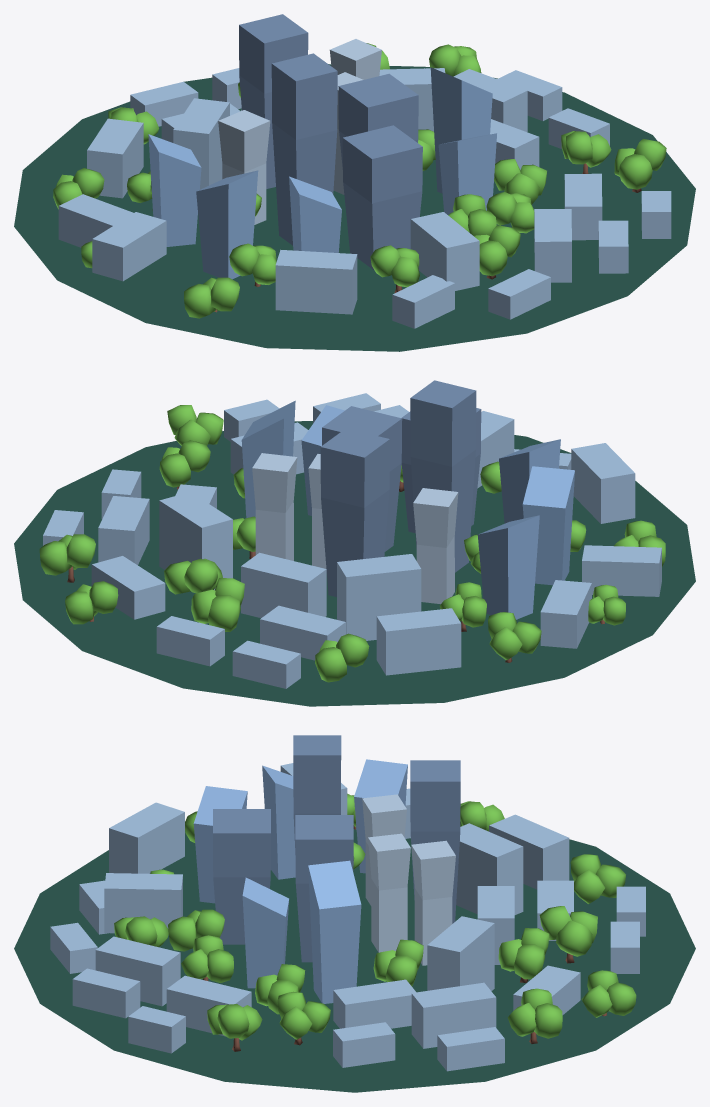
The model's file is city_layout.glb.
The picture shows the model from 3 angles, top to bottom: view 1: azimuth 30°, elevation 25°; view 2: azimuth 150°, elevation 25°; view 3: azimuth 270°, elevation 25°; orthographic projection.
Parts seen in each view (by area): view 1: Ground, Box building (×19), Big building (×4), Angular skyscraper (×5), Leaves 3 (×10), Trapezoidal skyscraper (×3), Leaves 1 (×5), Leaves 2 (×4); view 2: Box building (×19), Ground, Big building (×4), Angular skyscraper (×5), Trapezoidal skyscraper (×3), Leaves 1 (×11), Leaves 3 (×9), Leaves 2 (×3); view 3: Box building (×20), Ground, Big building (×4), Angular skyscraper (×5), Trapezoidal skyscraper (×3), Leaves 1 (×8), Leaves 2 (×6), Leaves 3 (×5).
Part boxes in pixels (bbox=[...]): Ground: bbox=[14, 64, 695, 351]; Box building (×19): bbox=[58, 68, 671, 328]; Big building (×4): bbox=[239, 14, 422, 269]; Angular skyscraper (×5): bbox=[148, 67, 496, 279]; Leaves 3 (×10): bbox=[72, 44, 666, 311]; Trapezoidal skyscraper (×3): bbox=[218, 39, 381, 224]; Leaves 1 (×5): bbox=[127, 154, 652, 318]; Leaves 2 (×4): bbox=[252, 173, 539, 287]; Box building (×19): bbox=[43, 393, 661, 688]; Ground: bbox=[14, 421, 695, 706]; Big building (×4): bbox=[320, 380, 481, 596]; Angular skyscraper (×5): bbox=[241, 400, 574, 619]; Trapezoidal skyscraper (×3): bbox=[252, 453, 458, 604]; Leaves 1 (×11): bbox=[39, 412, 625, 682]; Leaves 3 (×9): bbox=[66, 405, 516, 667]; Leaves 2 (×3): bbox=[174, 419, 522, 660]; Box building (×20): bbox=[50, 802, 645, 1071]; Ground: bbox=[14, 829, 695, 1092]; Big building (×4): bbox=[213, 735, 460, 962]; Angular skyscraper (×5): bbox=[193, 759, 407, 1003]; Trapezoidal skyscraper (×3): bbox=[362, 794, 455, 965]; Leaves 1 (×8): bbox=[168, 864, 636, 1038]; Leaves 2 (×6): bbox=[181, 869, 612, 1039]; Leaves 3 (×5): bbox=[125, 801, 571, 1038].
Size of the model in its own units: 51.82 by 15.67 by 51.82.
